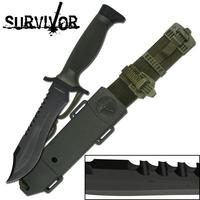knife: (5, 13, 113, 187)
